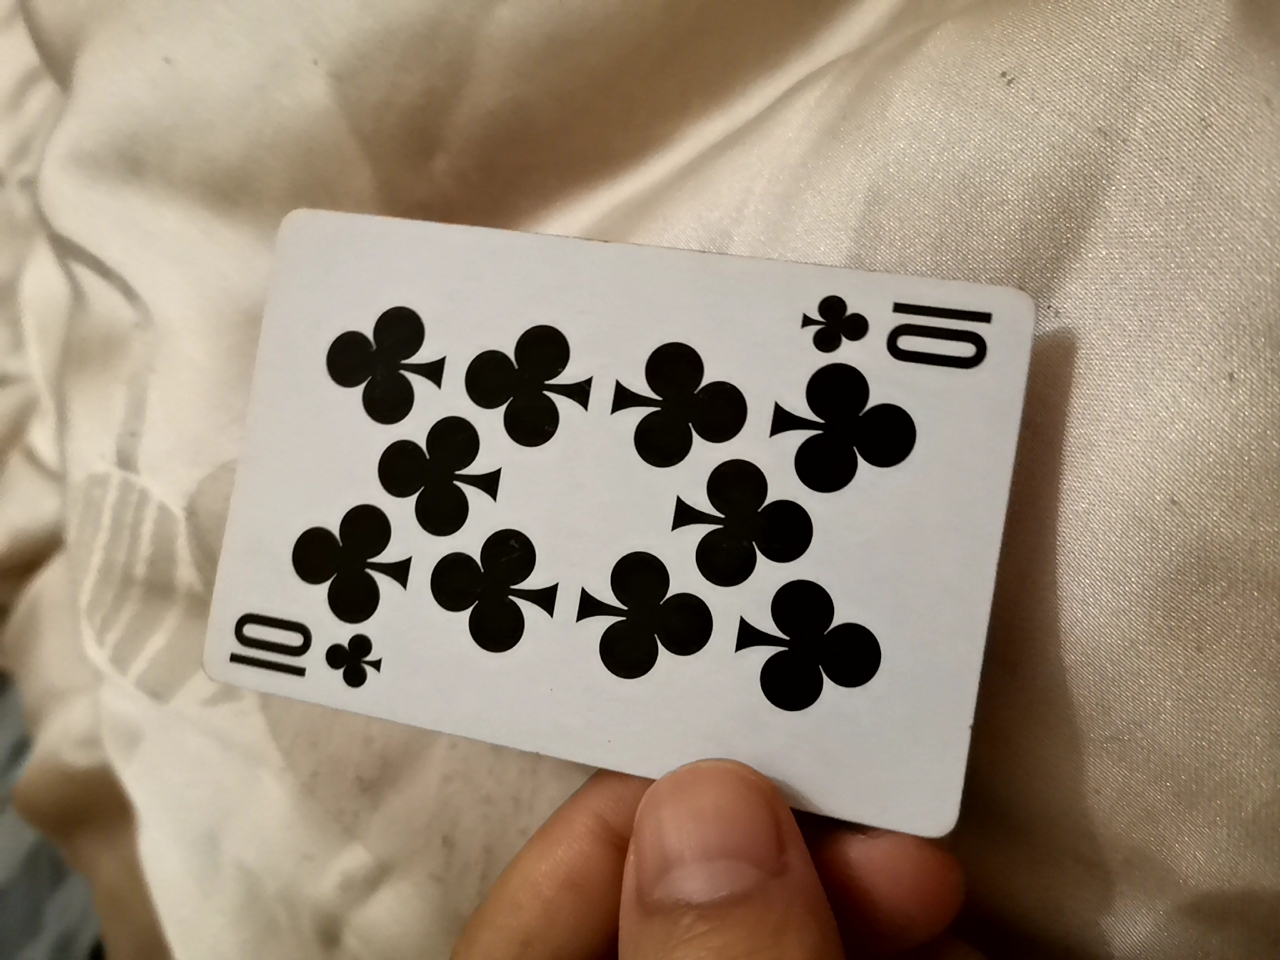mh 10: (197, 214, 1064, 857)
